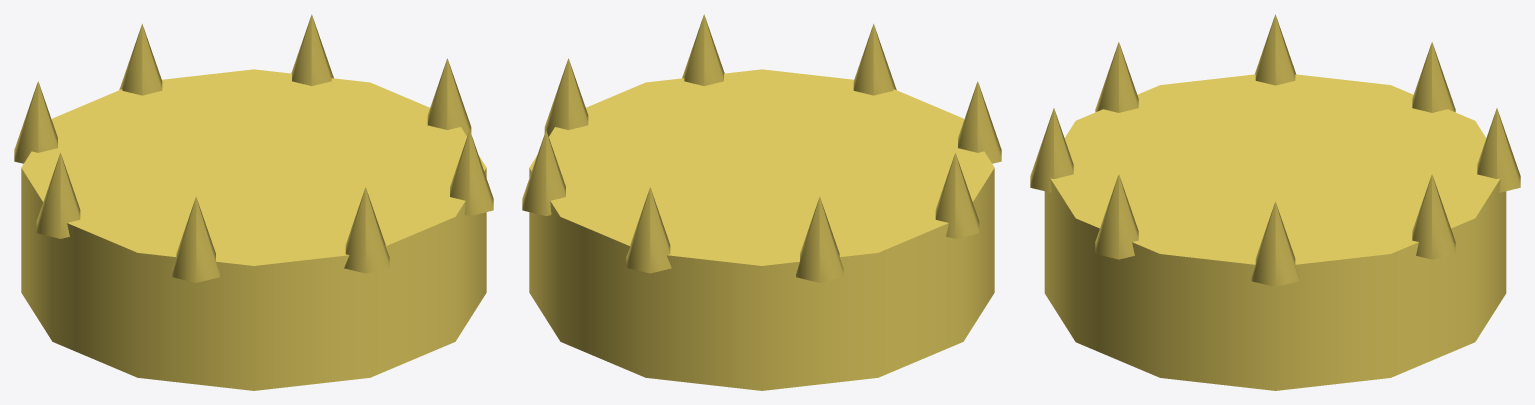
Rendered from hat_crown.glb.
The picture shows the model from 3 angles, left to right: view 1: azimuth 30°, elevation 25°; view 2: azimuth 150°, elevation 25°; view 3: azimuth 270°, elevation 25°; orthographic projection.
Parts seen in each view (by area): view 1: hat_crown; view 2: hat_crown; view 3: hat_crown.
Boxes of the visible parts, x1,y1,x2,y2 form: hat_crown: (14, 14, 493, 390); hat_crown: (522, 14, 1001, 390); hat_crown: (1030, 14, 1520, 390).
Bounding box in the file's own units: 0.364 × 0.15 × 0.3586.
